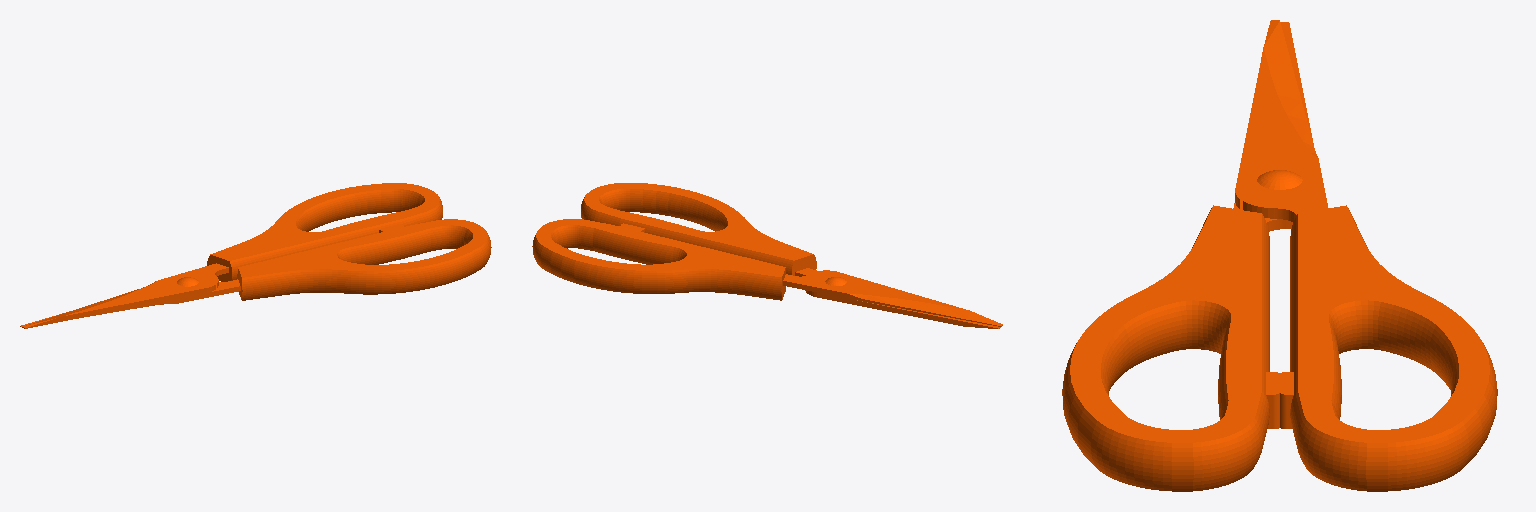
URDF robot description (Scissors_11089):
<?xml version="1.0" ?>
<robot name="Scissors_11089">
   <material name="obj_color">
      <color rgba="1.0 0.423529411765 0.0392156862745 1.0"/>
   </material>
   <link name="top">
      <inertial>
         <origin rpy="0.0001877053664049443 0.0004024479505433377 0.0005821846124648006" xyz="0.02268724555268597 -0.0001473318954020833 0.0001538952203942897"/>
         <mass value="0.2184432646529686"/>
         <inertia ixx="0.0001877054182975157" ixy="1.006247810927349e-07" ixz="-4.324308206742189e-08" iyy="0.0004024479040708673" iyz="1.106447314077573e-08" izz="0.0005821846070446997"/>
      </inertial>
      <visual>
         <origin rpy="0 0 0" xyz="0 0 0"/>
         <geometry>
            <mesh filename="top_watertight_tiny.stl" scale="1 1 1"/>
         </geometry>
         <material name="obj_color"/>
      </visual>
      <collision>
         <origin rpy="0 0 0" xyz="0 0 0"/>
         <geometry>
            <mesh filename="top_watertight_tiny.obj" scale="1 1 1"/>
         </geometry>
      </collision>
   </link>
   <link name="bottom">
      <inertial>
         <origin rpy="6.337490247847117e-07 1.670470960180752e-05 1.717077275701085e-05" xyz="-0.1083776838283442 -0.0001517857080996497 0.0001040453594314721"/>
         <mass value="0.01641810145887607"/>
         <inertia ixx="6.3375352273373e-07" ixy="5.690180742559241e-09" ixz="6.407078022295455e-09" iyy="1.670473064742998e-05" iyz="-3.280535839130557e-09" izz="1.717074721343936e-05"/>
      </inertial>
      <visual>
         <origin rpy="0 0 0" xyz="0 0 0"/>
         <geometry>
            <mesh filename="bottom_watertight_tiny.stl" scale="1 1 1"/>
         </geometry>
         <material name="obj_color"/>
      </visual>
      <collision>
         <origin rpy="0 0 0" xyz="0 0 0"/>
         <geometry>
            <mesh filename="bottom_watertight_tiny.obj" scale="1 1 1"/>
         </geometry>
      </collision>
   </link>
   <link name="world"/>
   <joint name="world_to_base" type="fixed">
      <origin xyz="0 0 0"/>
      <axis xyz="0 0 0"/>
      <parent link="world"/>
      <child link="bottom"/>
   </joint>
   <joint name="rotation" type="revolute">
      <origin xyz="0 0 0"/>
      <axis xyz="0 0 -1"/>
      <parent link="bottom"/>
      <child link="top"/>
      <dynamics damping="1.0" friction="1.0"/>
      <limit effort="0.1" velocity="0.1" lower="0" upper="0.001"/>
   </joint>
</robot>

--- Render facts (derived) ---
The picture shows the robot from 3 angles, left to right: view 1: azimuth 30°, elevation 25°; view 2: azimuth 150°, elevation 25°; view 3: azimuth 270°, elevation 25°; orthographic projection.
Robot: Scissors_11089 — 3 links, 2 joints (1 revolute, 1 fixed); root link world; default pose: every joint at zero.
Visible links, largest first — view 1: top, bottom; view 2: top, bottom; view 3: top, bottom.
Link boxes in pixels (x1,y1,x2,y2): top: (207,183,491,300); bottom: (20,263,240,328); top: (532,183,816,300); bottom: (783,268,1002,328); top: (1062,201,1497,491); bottom: (1233,20,1327,222).
Size in the robot's own frame: 0.2956 by 0.1212 by 0.015 metres.
2 mesh visuals loaded from 2 distinct referenced files (2 binary STL).